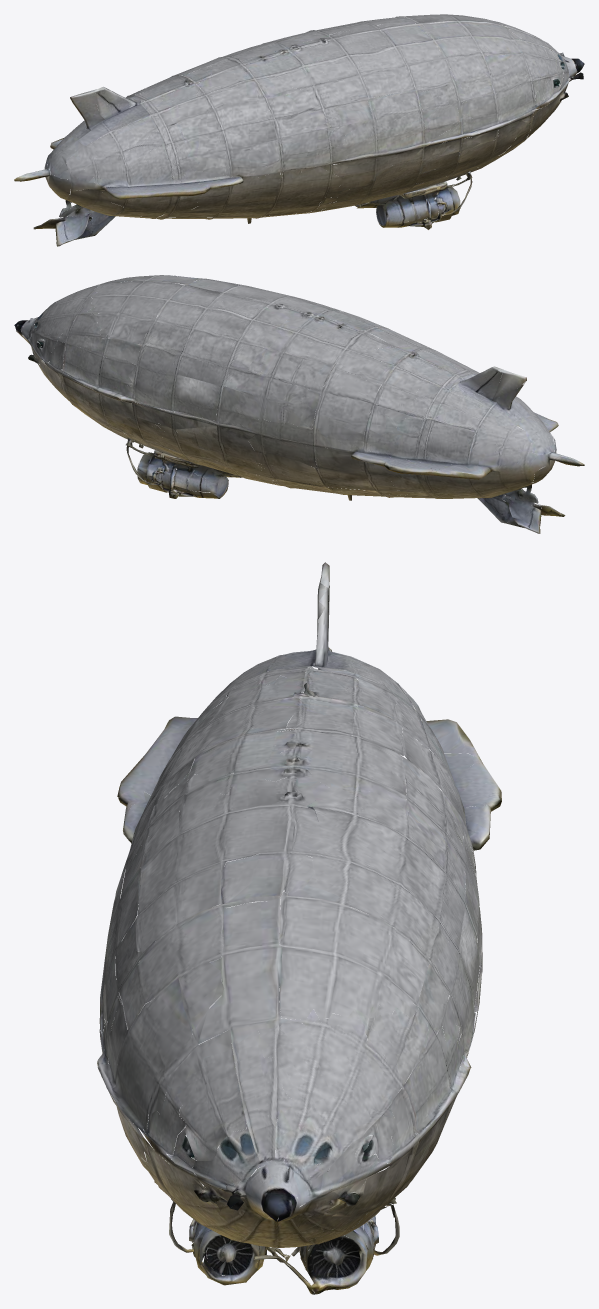
The model's file is airship.glb.
3 views of the same model, one above another, from view 1: azimuth 30°, elevation 25°; view 2: azimuth 150°, elevation 25°; view 3: azimuth 270°, elevation 25° (orthographic). The views are drawn at different scales.
Visible parts, largest first — view 1: tripo_node_a35f97f3-1b63-47e6-b972-054e32112102; view 2: tripo_node_a35f97f3-1b63-47e6-b972-054e32112102; view 3: tripo_node_a35f97f3-1b63-47e6-b972-054e32112102.
Part boxes in pixels (left/top/right/bottom): tripo_node_a35f97f3-1b63-47e6-b972-054e32112102: left=14, top=14, right=584, bottom=246; tripo_node_a35f97f3-1b63-47e6-b972-054e32112102: left=14, top=275, right=584, bottom=533; tripo_node_a35f97f3-1b63-47e6-b972-054e32112102: left=97, top=562, right=501, bottom=1294.
Size of the model in its own units: 151 by 49.99 by 47.31.
1 material, 1 textured.
